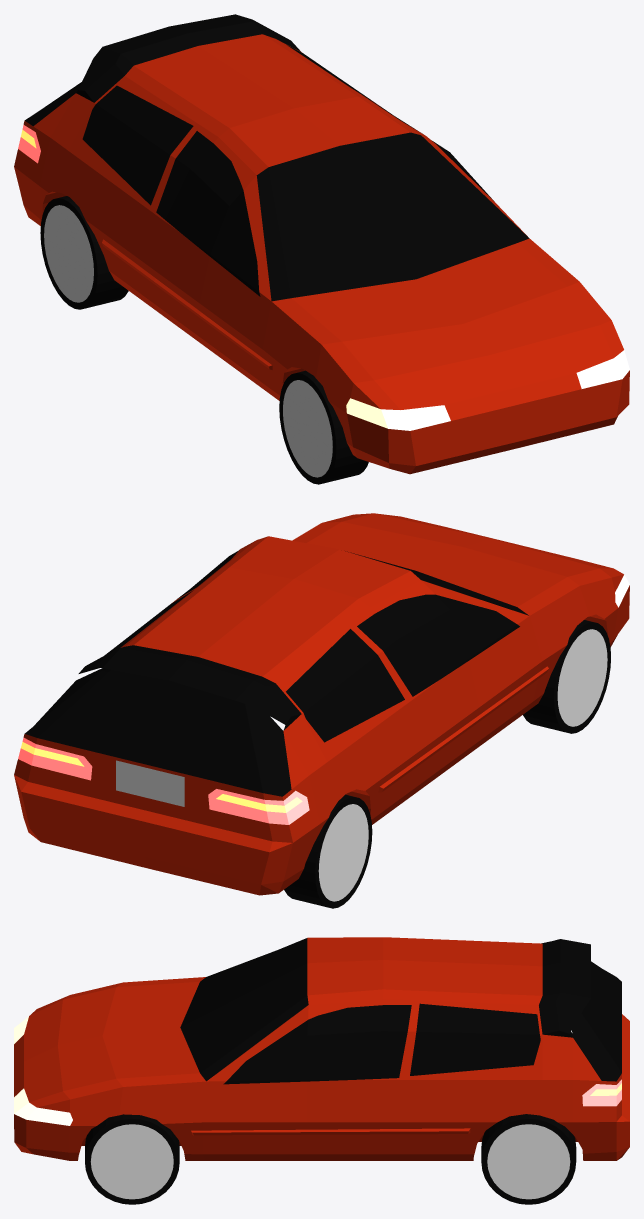
Rendered from civic_hatch.glb.
3 views of the same model, one above another, from view 1: azimuth 30°, elevation 25°; view 2: azimuth 150°, elevation 25°; view 3: azimuth 270°, elevation 25° (orthographic). The views are drawn at different scales.
Visible parts, largest first — view 1: Cube.004; view 2: Cube.004; view 3: Cube.004.
Part boxes in pixels (x1,y1,x2,y2): Cube.004: [14, 14, 629, 484]; Cube.004: [14, 513, 629, 908]; Cube.004: [14, 937, 629, 1204].
Size of the model in its own units: 1.87 by 1.45 by 4.27.
